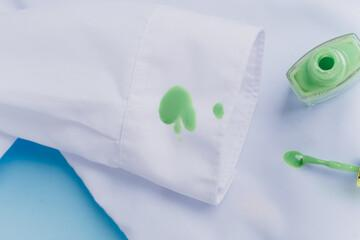gun: (155, 85, 197, 137), (211, 100, 225, 120)
